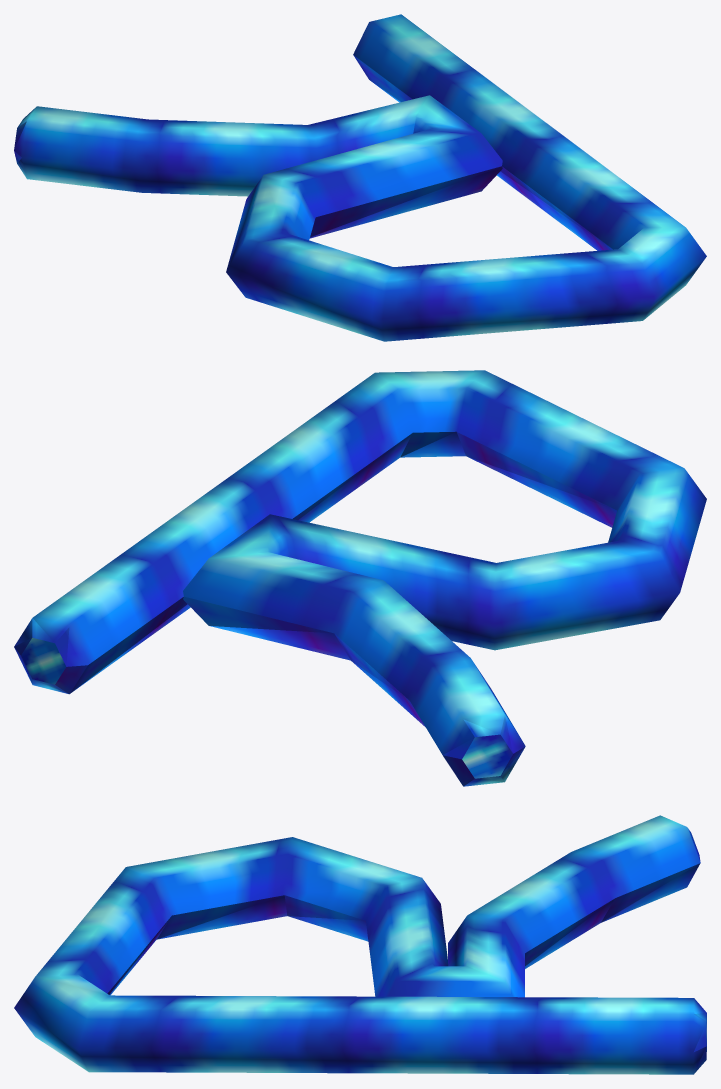
Rendered from furni_0200465.FBX.
The picture shows the model from 3 angles, top to bottom: view 1: azimuth 30°, elevation 25°; view 2: azimuth 150°, elevation 25°; view 3: azimuth 270°, elevation 25°; orthographic projection. The views are drawn at different scales.
Visible parts, largest first — view 1: furni_0200465; view 2: furni_0200465; view 3: furni_0200465.
Part boxes in pixels (x1,y1,x2,y2): furni_0200465: (14,14,706,341); furni_0200465: (14,370,706,786); furni_0200465: (14,815,706,1074).
Bounding box in the file's own units: 38.55 × 5.11 × 53.05.
Materials: 1 (1 with a texture image).
